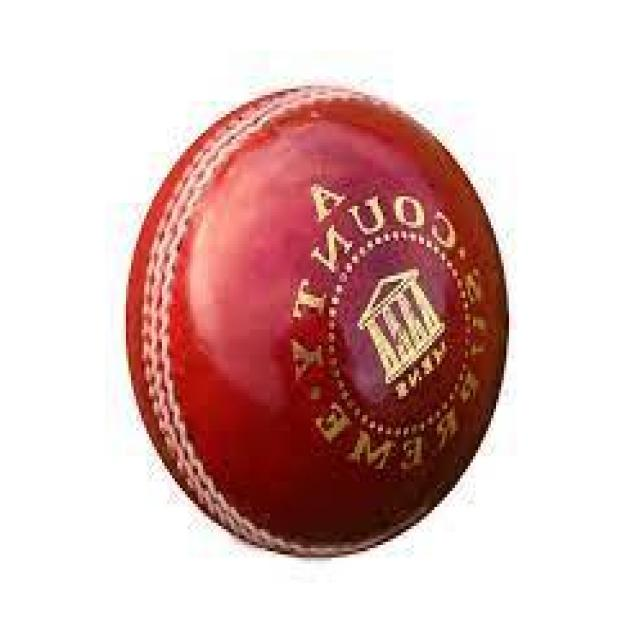ball: (126, 89, 511, 561)
